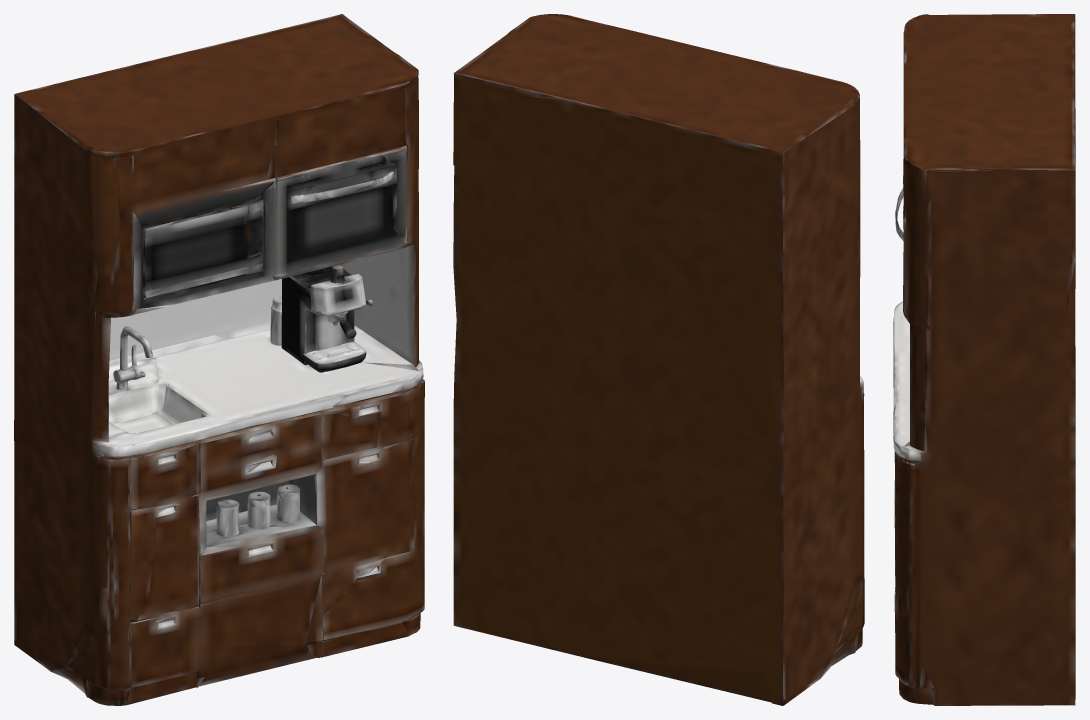
File: cab_galley.glb
The picture shows the model from 3 angles, left to right: view 1: azimuth 30°, elevation 25°; view 2: azimuth 150°, elevation 25°; view 3: azimuth 270°, elevation 25°; orthographic projection. The views are drawn at different scales.
Parts seen in each view (by area): view 1: LO; view 2: LO; view 3: LO.
Part boxes in pixels (x1,y1,x2,y2): LO: [14, 14, 424, 705]; LO: [453, 14, 864, 705]; LO: [893, 14, 1075, 705].
Bounding box in the file's own units: 1.22 × 1.95 × 0.5998.
1 material, 1 textured.
